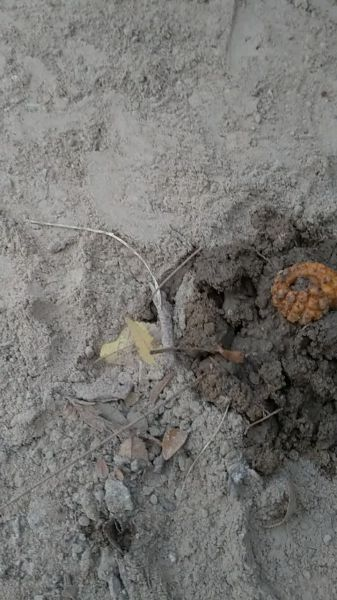eggs: (264, 252, 337, 330)
